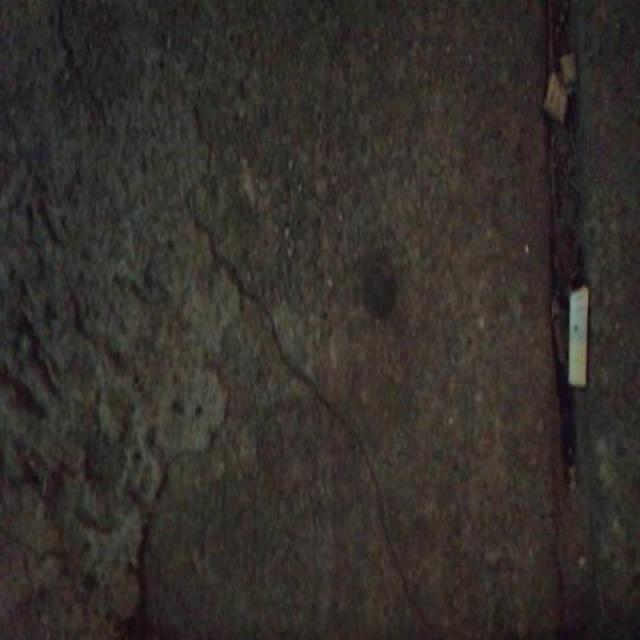non-organic waste: (566, 280, 590, 393)
